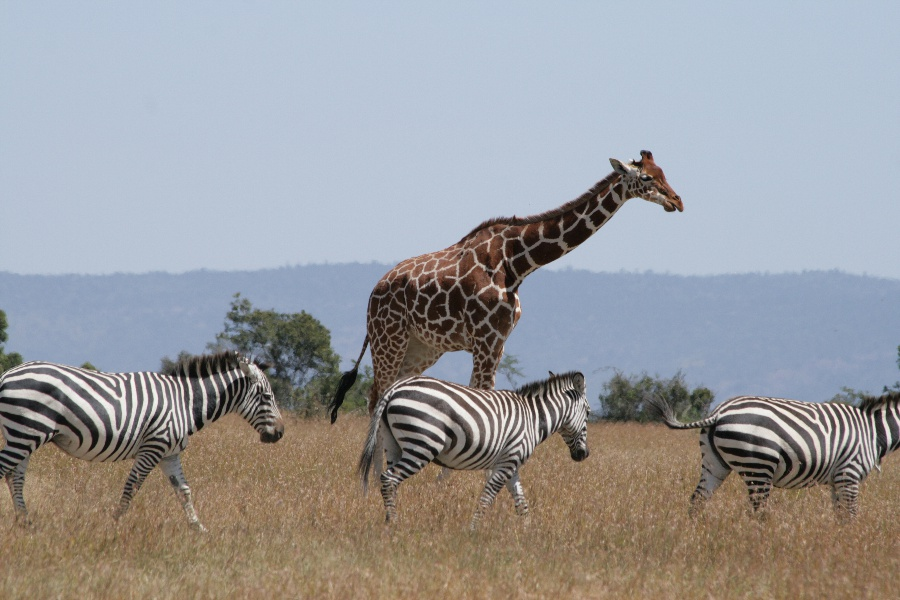giraffe: (362, 140, 692, 386)
